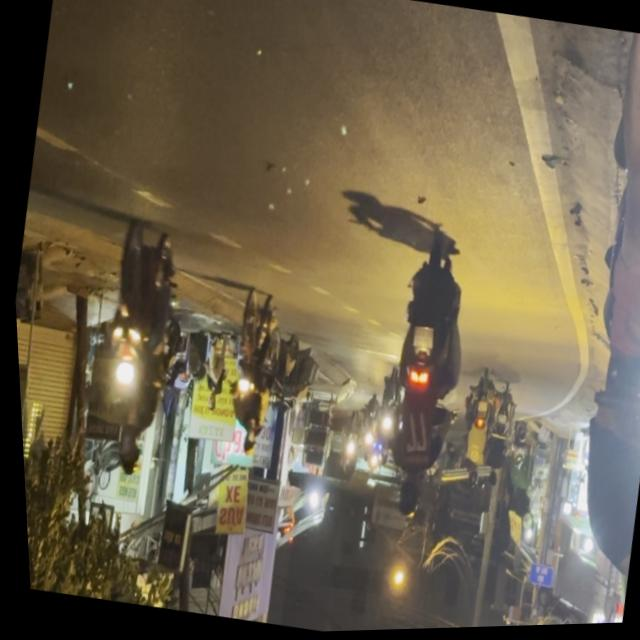helmet: (105, 427, 140, 477), (384, 474, 417, 522)
licenseplate: (354, 221, 486, 528), (60, 213, 197, 488)
nohelmet: (406, 324, 431, 352)
